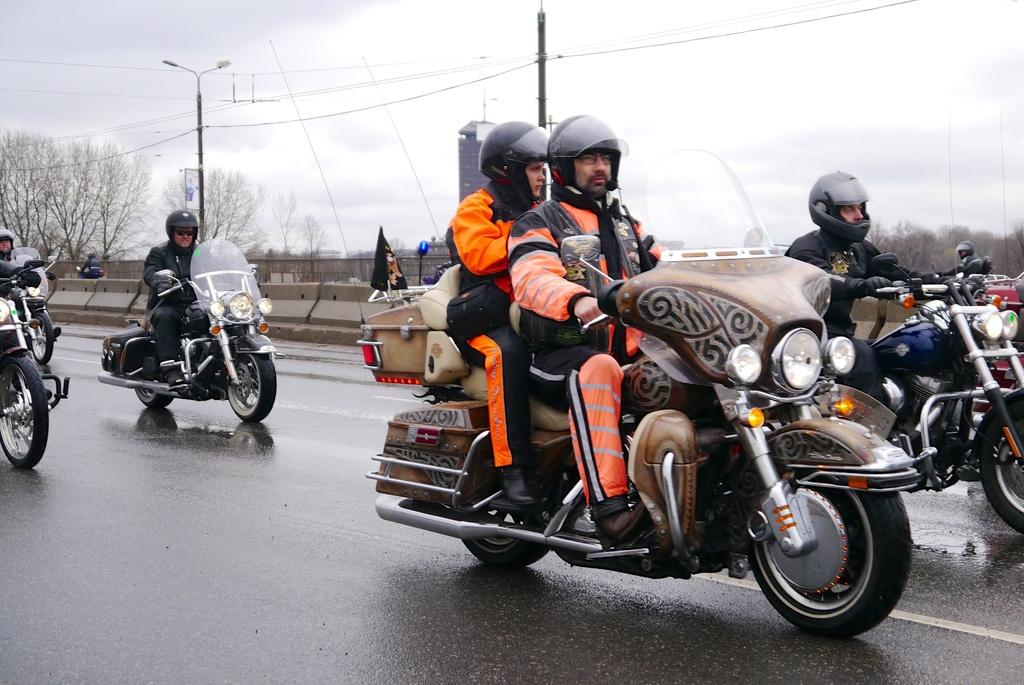helmet: (547, 114, 630, 193), (479, 120, 559, 197), (808, 172, 874, 243), (165, 209, 199, 247), (955, 240, 975, 261), (0, 228, 15, 253), (87, 251, 96, 260)
